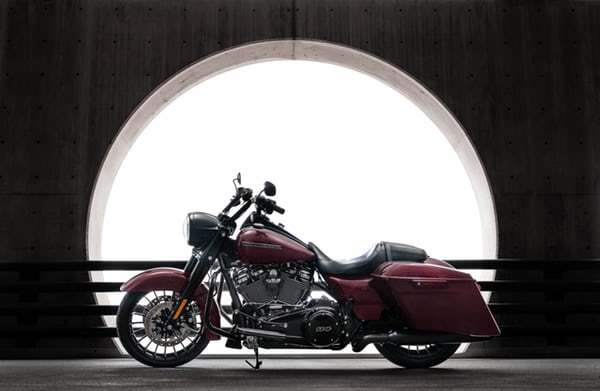17_label: (107, 161, 505, 376)
